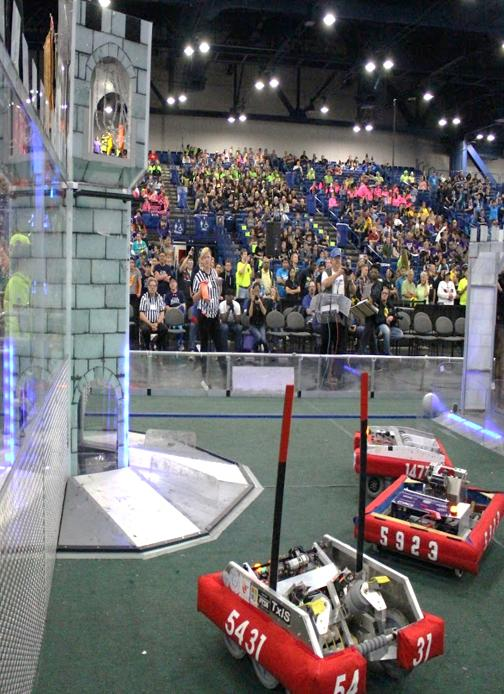robot: (153, 364, 457, 694), (351, 452, 504, 581), (344, 415, 461, 509)
